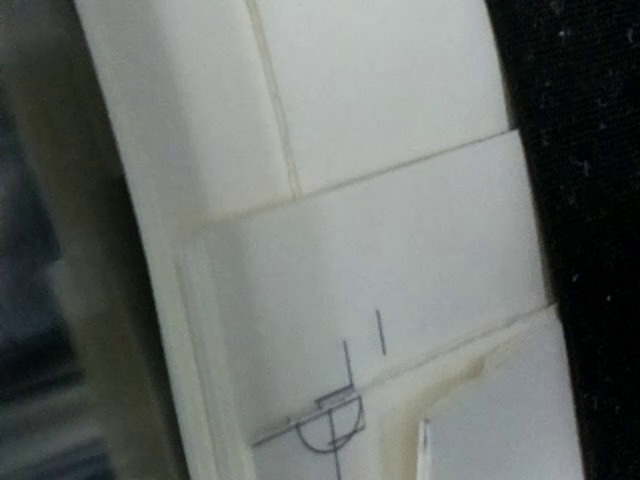misaligned: (256, 352, 384, 480)
